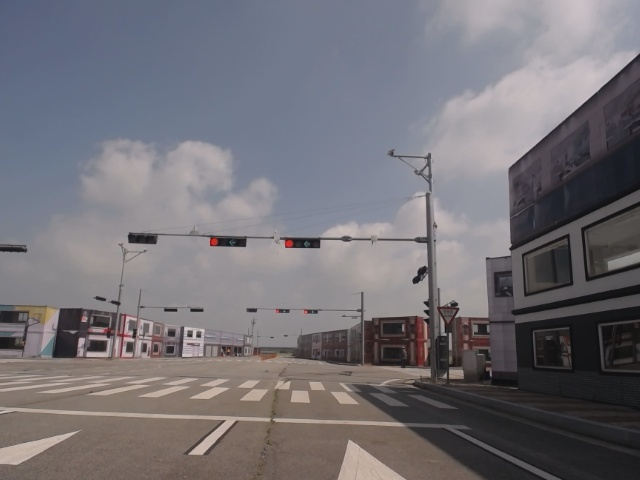left_green_4: (284, 237, 321, 249), (209, 236, 247, 247)
